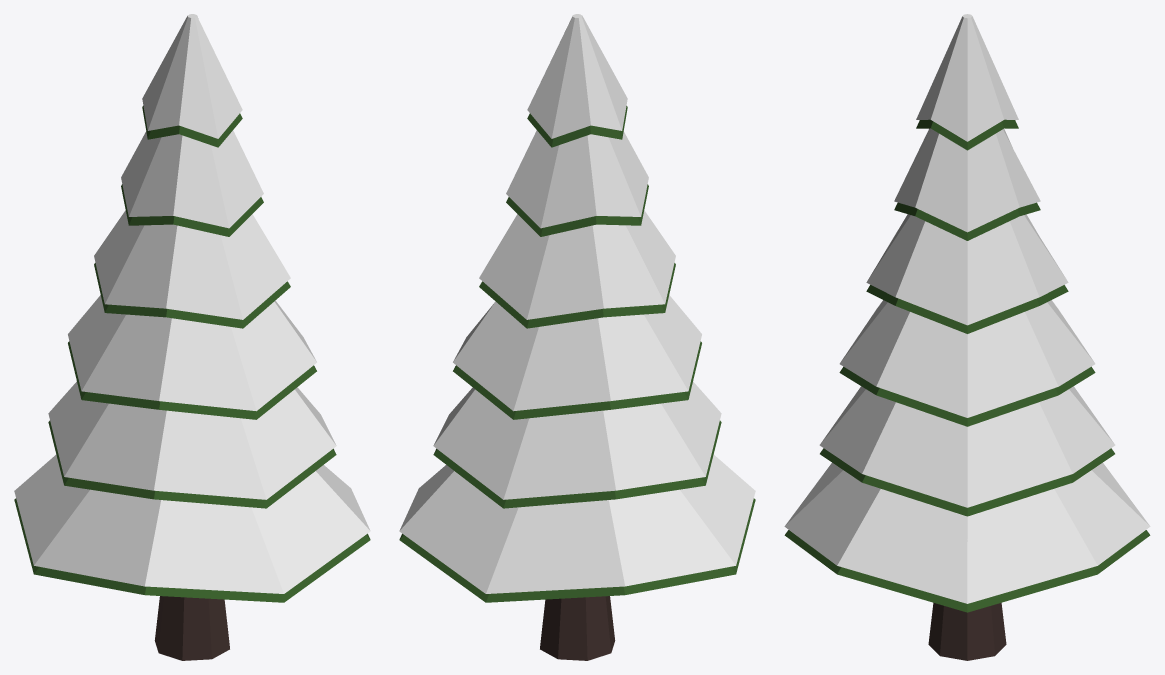
File: pine tree winter.fbx
The picture shows the model from 3 angles, left to right: view 1: azimuth 30°, elevation 25°; view 2: azimuth 150°, elevation 25°; view 3: azimuth 270°, elevation 25°; orthographic projection.
Visible parts, largest first — view 1: pine tree winter; view 2: pine tree winter; view 3: pine tree winter.
Part boxes in pixels (x1,y1,x2,y2): pine tree winter: [14, 14, 370, 660]; pine tree winter: [399, 14, 755, 660]; pine tree winter: [784, 14, 1150, 660].
Size of the model in its own units: 340 by 644 by 340.
